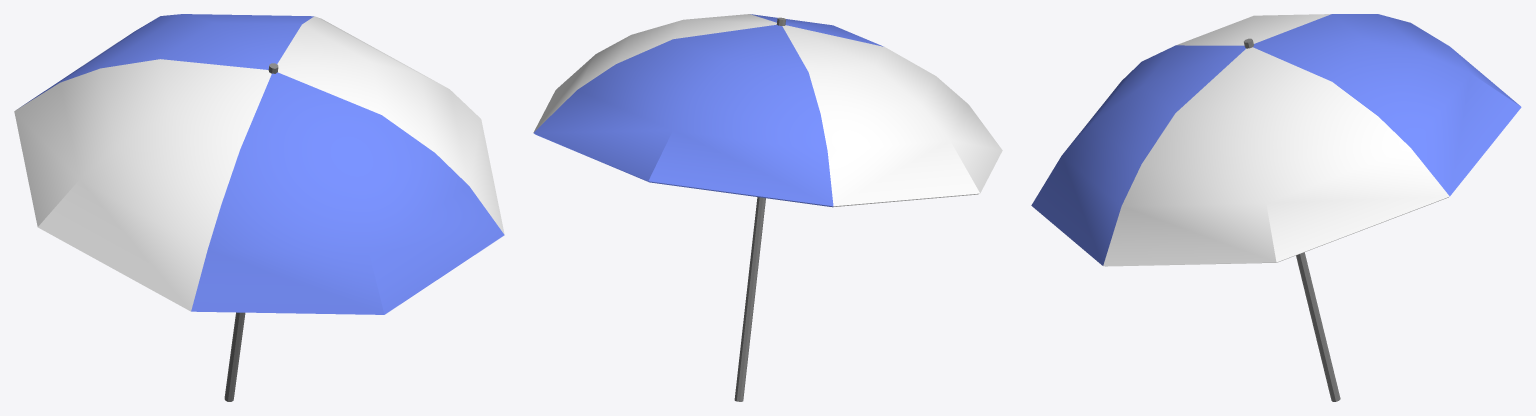
The model's file is uploads_files_4707588_beach-umbrella.fbx.
The picture shows the model from 3 angles, left to right: view 1: azimuth 30°, elevation 25°; view 2: azimuth 150°, elevation 25°; view 3: azimuth 270°, elevation 25°; orthographic projection. The views are drawn at different scales.
Visible parts, largest first — view 1: Umbrella; view 2: Umbrella; view 3: Umbrella.
Boxes of the visible parts, x1,y1,x2,y2 form: Umbrella: (14, 14, 504, 401); Umbrella: (533, 14, 1002, 401); Umbrella: (1031, 14, 1521, 401).
Bounding box in the file's own units: 161 × 128 × 157.
